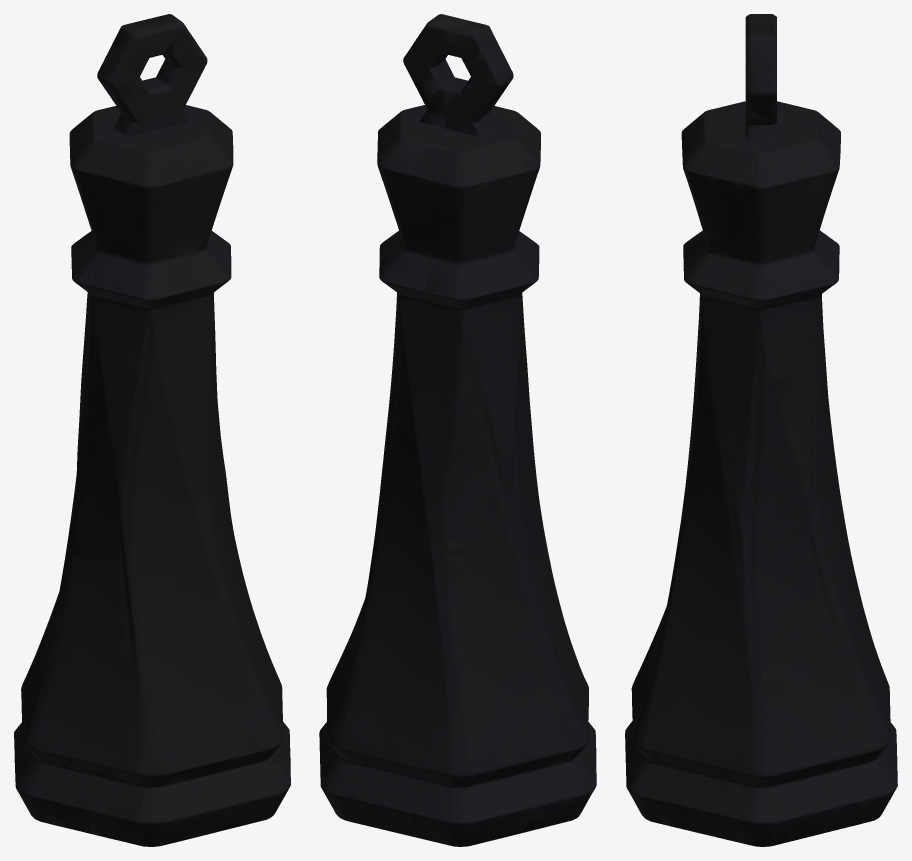
File: king-black-hd.glb
3 renders of one model, left to right at view 1: azimuth 30°, elevation 25°; view 2: azimuth 150°, elevation 25°; view 3: azimuth 270°, elevation 25°, orthographic.
Bounding box in the file's own units: 0.5827 × 1.6 × 0.5173.
1 material, 1 textured.
